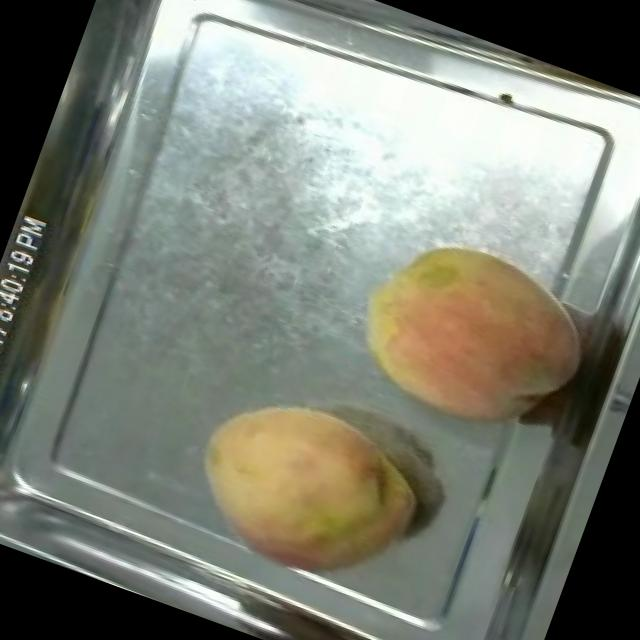Fruit: (326, 205, 617, 466), (162, 362, 449, 612)
